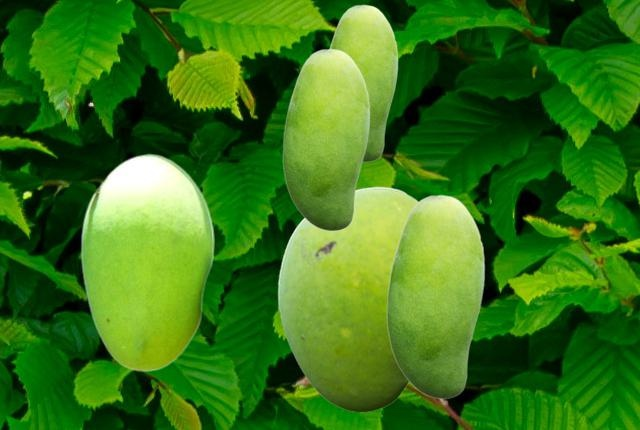green_mango: (277, 186, 418, 411), (80, 153, 213, 370), (386, 194, 484, 398), (282, 48, 369, 230), (329, 4, 397, 161)
